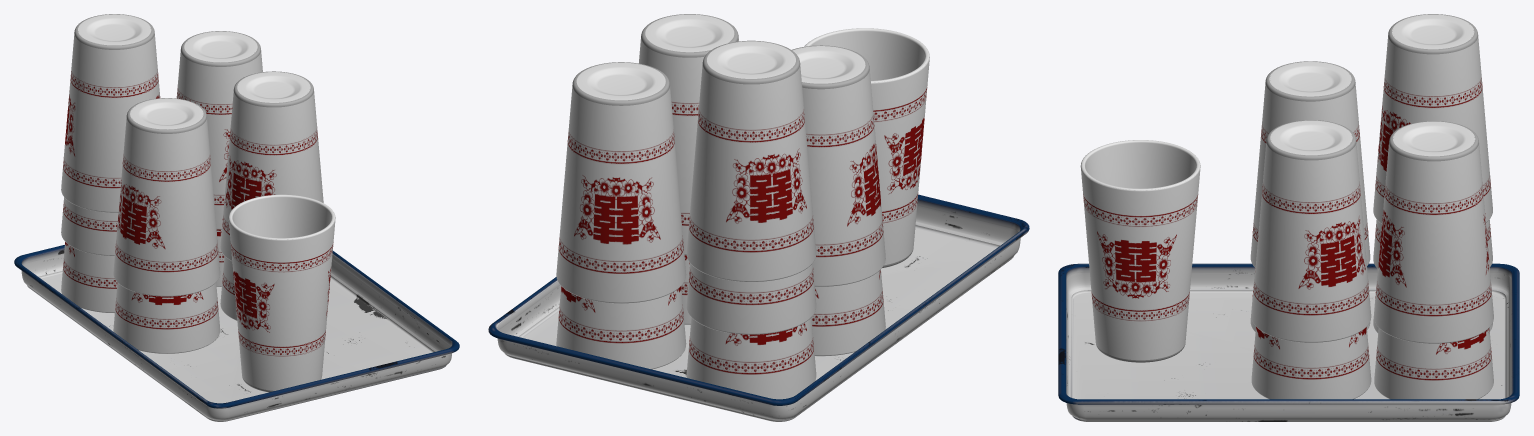
The model's file is ChineseGlass1.fbx.
3 views of the same model, side by side, from view 1: azimuth 30°, elevation 25°; view 2: azimuth 150°, elevation 25°; view 3: azimuth 270°, elevation 25° (orthographic). The views are drawn at different scales.
Parts seen in each view (by area): view 1: GlassHolder_Baked, Glass_Baked.007, Glass_Baked, Glass_Baked.009, Glass_Baked.008, Glass_Baked.006, Glass_Baked.003, Glass_Baked.001, Glass_Baked.005, Glass_Baked.004; view 2: Glass_Baked.009, Glass_Baked.006, GlassHolder_Baked, Glass_Baked.007, Glass_Baked, Glass_Baked.002, Glass_Baked.001, Glass_Baked.008, Glass_Baked.005, Glass_Baked.003; view 3: GlassHolder_Baked, Glass_Baked.006, Glass_Baked.008, Glass_Baked, Glass_Baked.009, Glass_Baked.004, Glass_Baked.007, Glass_Baked.002, Glass_Baked.005.
Part boxes in pixels (x1,y1,x2,y2): GlassHolder_Baked: (14,245,459,421); Glass_Baked.007: (113,98,220,296); Glass_Baked: (228,194,335,392); Glass_Baked.009: (61,14,160,212); Glass_Baked.008: (220,71,323,260); Glass_Baked.006: (176,31,262,229); Glass_Baked.003: (113,282,220,353); Glass_Baked.001: (61,242,117,313); Glass_Baked.005: (61,197,118,255); Glass_Baked.004: (220,256,237,320); Glass_Baked.009: (686,40,816,281); Glass_Baked.006: (556,62,686,303); GlassHolder_Baked: (488,194,1029,421); Glass_Baked.007: (792,45,885,286); Glass_Baked: (804,28,929,267); Glass_Baked.002: (556,286,686,369); Glass_Baked.001: (686,317,816,399); Glass_Baked.008: (638,14,738,255); Glass_Baked.005: (686,263,816,334); Glass_Baked.003: (811,269,885,356); GlassHolder_Baked: (1058,263,1519,421); Glass_Baked.006: (1374,121,1493,343); Glass_Baked.008: (1251,120,1371,342); Glass_Baked: (1080,140,1200,362); Glass_Baked.009: (1373,14,1492,223); Glass_Baked.004: (1251,327,1371,399); Glass_Baked.007: (1250,61,1370,267); Glass_Baked.002: (1374,328,1493,399); Glass_Baked.005: (1373,219,1492,269).
Size of the model in its own units: 16.3 by 16.2 by 23.06.
